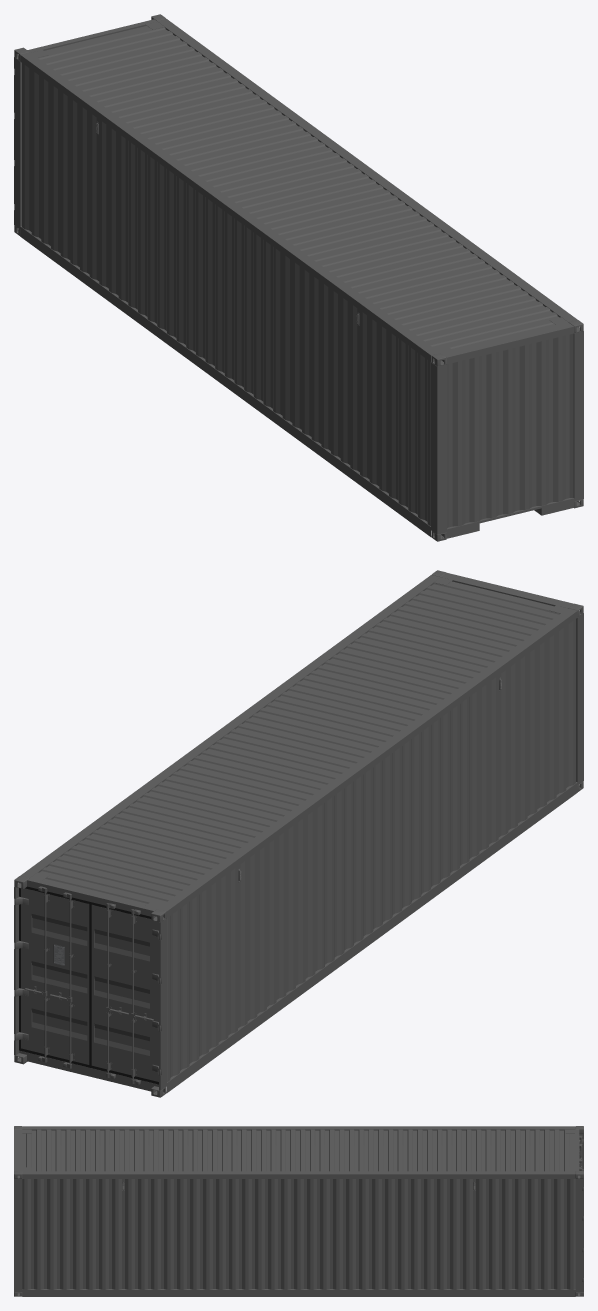
File: Container_40ftHC.fbx
3 renders of one model, top to bottom at view 1: azimuth 30°, elevation 25°; view 2: azimuth 150°, elevation 25°; view 3: azimuth 270°, elevation 25°, orthographic. The views are drawn at different scales.
Parts seen in each view (by area): view 1: Body_Wall_Xn, Body_Roof, Body_Wall_Yn, Rail_Side_Xn_Top, Rail_Side_Xn_Bottom, Rail_Side_Xp_Top, Post_Corner_XnYn, Post_Corner_XpYn, Rail_End_Yn_Top, Post_Corner_XnYp, Rail_End_Yn_Bottom; view 2: Body_Wall_Xn, Body_Roof, Door_L, Door_R, Rail_Side_Xn_Top, Rail_Side_Xn_Bottom, Rail_Side_Xp_Top, Post_Corner_XnYn, Post_Corner_XnYp, Rail_End_Yp_Top, Rail_End_Yp_Bottom, Rail_End_Yn_Top (+2 smaller); view 3: Body_Wall_Xp, Body_Roof, Rail_Side_Xp_Top, Rail_Side_Xp_Bottom, Rail_Side_Xn_Top, Post_Corner_XpYn, Post_Corner_XpYp, Rail_End_Yn_Top.
Boxes of the visible parts, <box> form: Body_Wall_Xn: <box>22,63,430,525</box>; Body_Roof: <box>38,26,559,349</box>; Body_Wall_Yn: <box>447,333,573,528</box>; Rail_Side_Xn_Top: <box>20,52,439,362</box>; Rail_Side_Xn_Bottom: <box>20,226,431,537</box>; Rail_Side_Xp_Top: <box>157,19,576,321</box>; Post_Corner_XnYn: <box>431,362,446,534</box>; Post_Corner_XpYn: <box>573,331,583,501</box>; Rail_End_Yn_Top: <box>441,322,574,364</box>; Post_Corner_XnYp: <box>14,57,21,228</box>; Rail_End_Yn_Bottom: <box>446,498,574,538</box>; Body_Wall_Xn: <box>167,619,575,1081</box>; Body_Roof: <box>38,581,560,905</box>; Door_L: <box>91,905,158,1081</box>; Door_R: <box>21,888,89,1064</box>; Rail_Side_Xn_Top: <box>158,608,577,918</box>; Rail_Side_Xn_Bottom: <box>166,782,577,1093</box>; Rail_Side_Xp_Top: <box>21,575,440,877</box>; Post_Corner_XnYn: <box>576,613,583,784</box>; Post_Corner_XnYp: <box>159,918,166,1090</box>; Rail_End_Yp_Top: <box>27,877,157,916</box>; Rail_End_Yp_Bottom: <box>19,1050,158,1091</box>; Rail_End_Yn_Top: <box>441,573,573,608</box>; Body_Wall_Xp: <box>22,1179,575,1289</box>; Body_Roof: <box>22,1129,574,1171</box>; Rail_Side_Xp_Top: <box>22,1171,575,1178</box>; Rail_Side_Xp_Bottom: <box>22,1289,575,1296</box>; Rail_Side_Xn_Top: <box>22,1126,575,1130</box>; Post_Corner_XpYn: <box>14,1179,22,1291</box>; Post_Corner_XpYp: <box>575,1179,583,1291</box>; Rail_End_Yn_Top: <box>14,1129,22,1170</box>.
Bounding box in the file's own units: 50.79 × 10.16 × 12.07.
